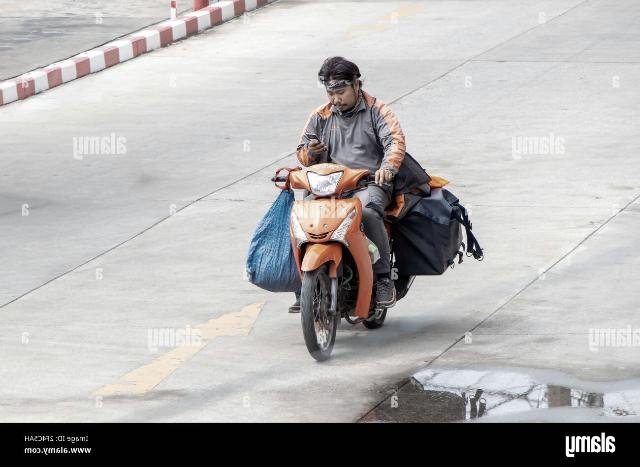motor: (273, 167, 416, 364)
non-helm: (319, 58, 362, 112)
